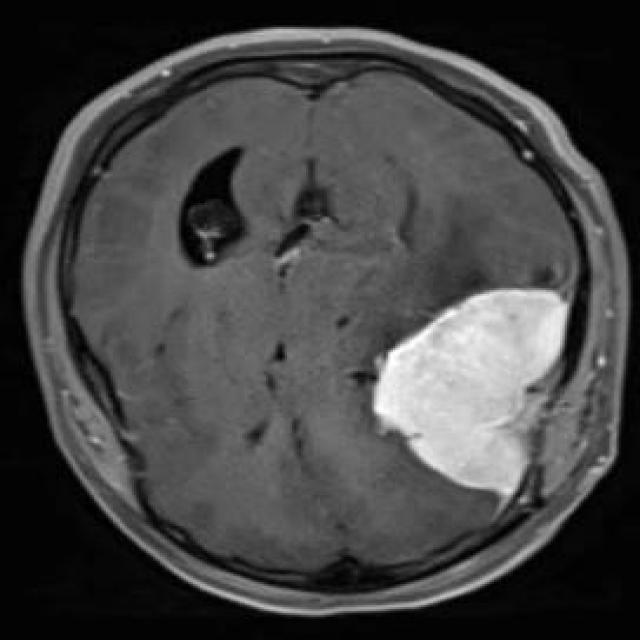brain tumor: (374, 290, 565, 497)
